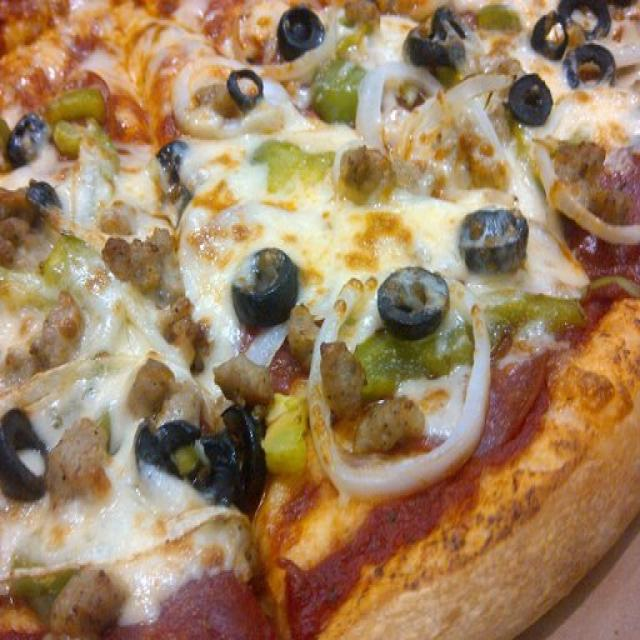Beef: (41, 415, 114, 506), (127, 354, 205, 430), (100, 229, 176, 295), (330, 136, 399, 201), (48, 576, 118, 640), (212, 349, 282, 399), (358, 392, 413, 452), (329, 338, 370, 416), (0, 189, 40, 268), (546, 132, 603, 182), (168, 288, 210, 354), (43, 291, 83, 360), (0, 110, 15, 179), (495, 51, 524, 86), (352, 0, 376, 28)
Green Pepper: (362, 299, 578, 401), (252, 132, 334, 201), (306, 52, 369, 119), (57, 111, 118, 172), (44, 229, 101, 291), (47, 88, 108, 126), (475, 0, 520, 36)
Olives: (214, 398, 269, 513), (457, 201, 527, 279), (378, 262, 454, 331), (236, 247, 298, 329), (0, 399, 42, 503), (136, 416, 190, 495), (182, 438, 232, 515), (566, 42, 622, 93), (552, 0, 616, 42), (410, 23, 460, 74), (531, 11, 572, 64), (282, 9, 330, 54), (432, 0, 468, 53), (10, 108, 41, 166), (510, 70, 547, 118), (150, 138, 192, 180), (225, 66, 265, 110), (32, 182, 62, 225)
Onions: (304, 256, 501, 500), (528, 147, 640, 264), (168, 43, 282, 141), (355, 62, 433, 162), (436, 68, 513, 126), (70, 142, 95, 242)
